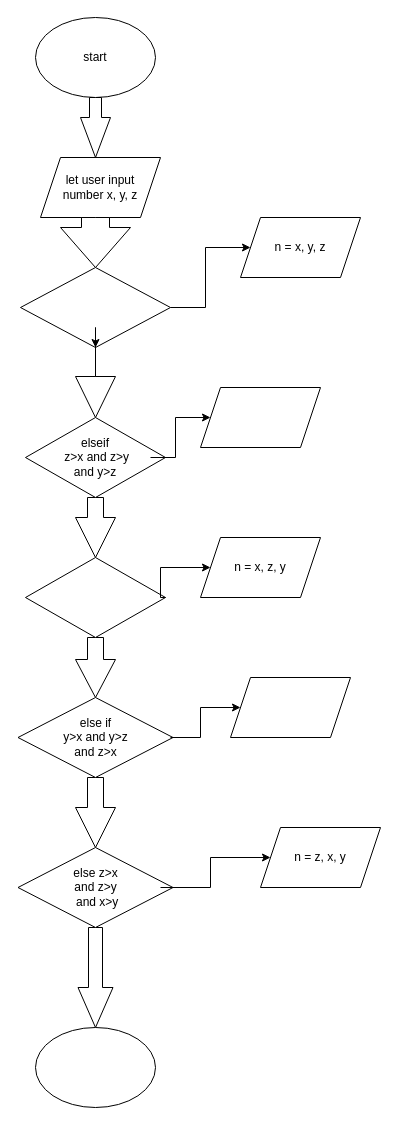
The diagram is 398 pixels wide and 1125 high, and some of its shapes have lost their labels. Here are the shapes that lost their labels. From the top down, the centre of each, then its label:
At pixel 95 307: "if x>y and x>z and y>z".
At pixel 260 417: "n = z, y, x".
At pixel 95 597: "else if x>y and x>z and z>y".
At pixel 290 707: "n = y, z, x".
